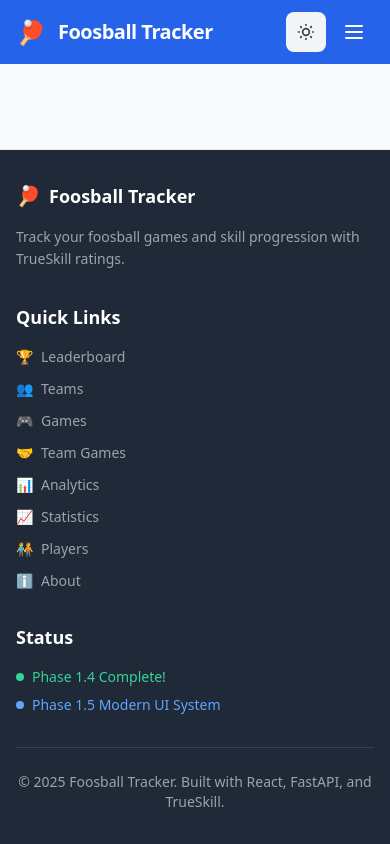
Test: Mobile Responsiveness › Layout Mobile Navigation › should close mobile menu when clicking outside
Note: Open menu
Step 1. Click the button named "toggle navigation menu" → (354, 32), box [334,12,374,52]
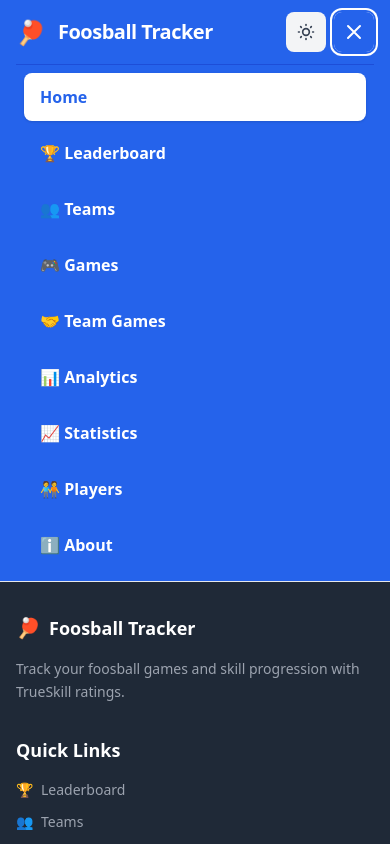
Expected: the navigation bar named "Mobile navigation" is shown, [16,64,374,581]
Note: Click hamburger again to close (simulating outside click behavior)
Step 2. Click the button named "toggle navigation menu" → (354, 32), box [334,12,374,52]
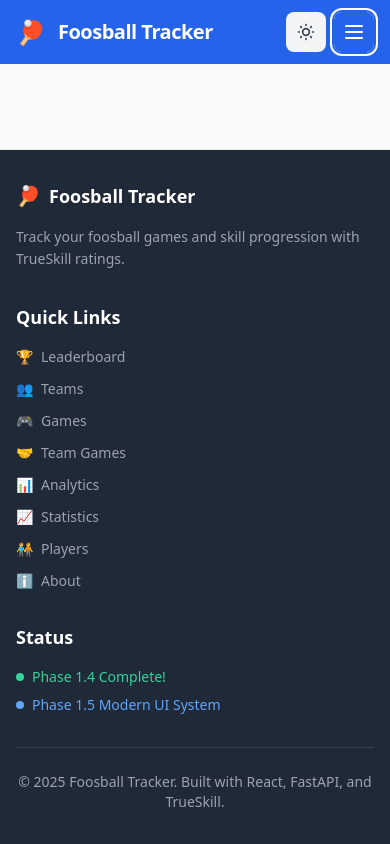
Expected: the navigation bar labelled "Mobile navigation" is gone
